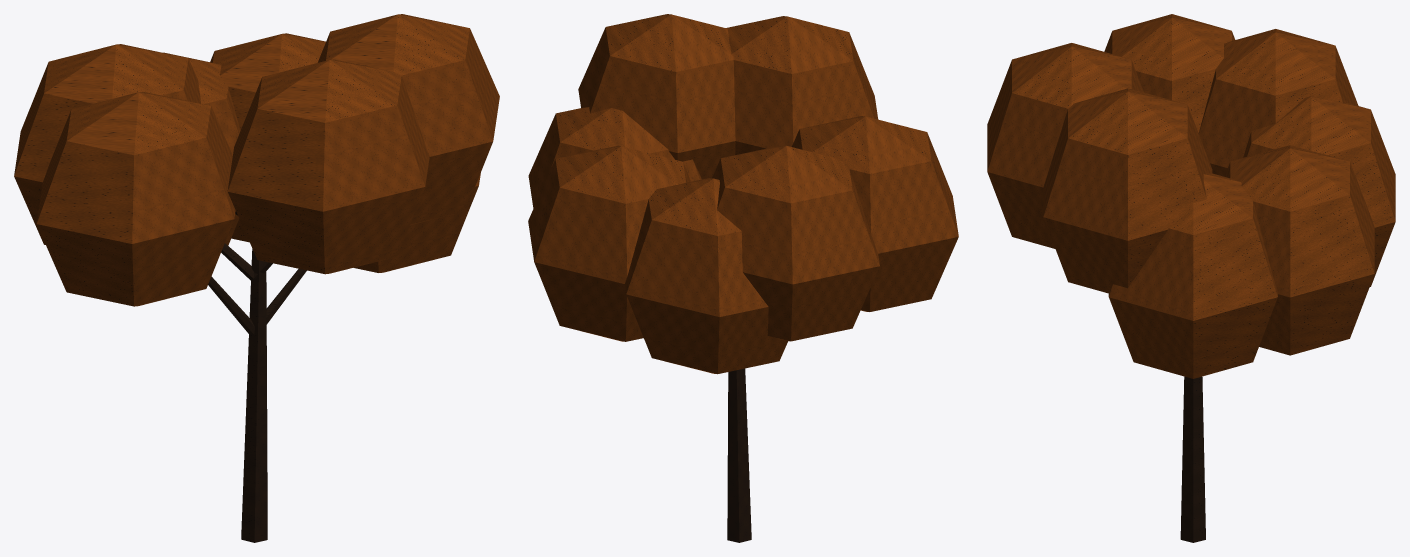
Rendered from PROP-1F0D6152AFB3_lod2.glb.
3 views of the same model, side by side, from view 1: azimuth 30°, elevation 25°; view 2: azimuth 150°, elevation 25°; view 3: azimuth 270°, elevation 25° (orthographic). The views are drawn at different scales.
Parts seen in each view (by area): view 1: leaf_crown.084, trunk.076, branch.048; view 2: leaf_crown.084, trunk.076; view 3: leaf_crown.084, trunk.076.
Boxes of the visible parts, box(x1,y1,x2,y2) form: leaf_crown.084: box(14, 14, 499, 306); trunk.076: box(241, 249, 267, 542); branch.048: box(208, 211, 306, 334); leaf_crown.084: box(528, 14, 958, 374); trunk.076: box(727, 368, 751, 542); leaf_crown.084: box(987, 14, 1395, 378); trunk.076: box(1180, 376, 1205, 542).
Size of the model in its own units: 8.35 by 9.03 by 6.75.
Materials: 2 (2 with a texture image).
